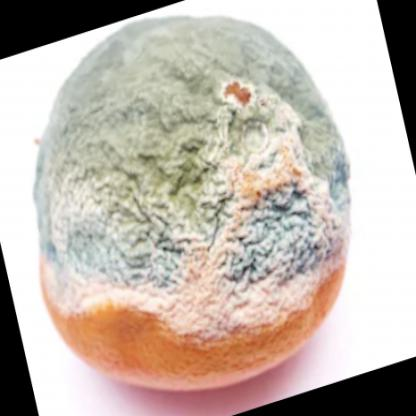rotten_orange: (23, 11, 357, 394)
